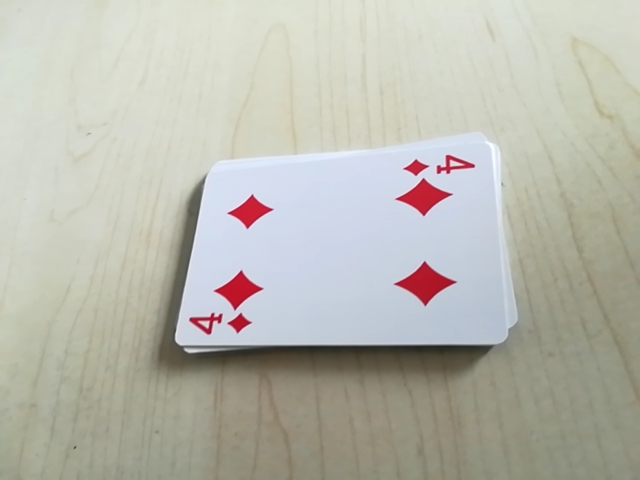fk 4: (399, 147, 482, 182), (181, 311, 257, 347)
